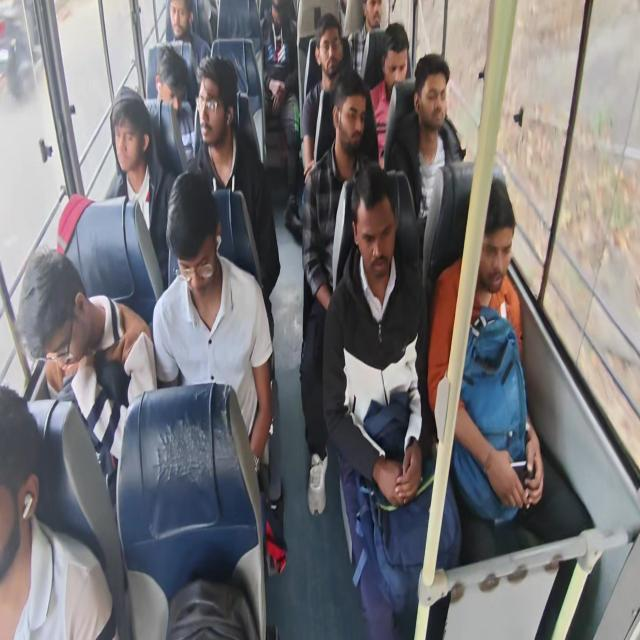person: (322, 160, 462, 638), (427, 174, 545, 560), (152, 170, 278, 505), (17, 246, 156, 506), (300, 70, 380, 516), (0, 384, 118, 638), (186, 55, 281, 341), (384, 53, 466, 279), (105, 89, 177, 289), (261, 1, 302, 234), (300, 13, 352, 182), (143, 44, 195, 170), (368, 22, 410, 168), (346, 0, 389, 89), (165, 0, 210, 69)
